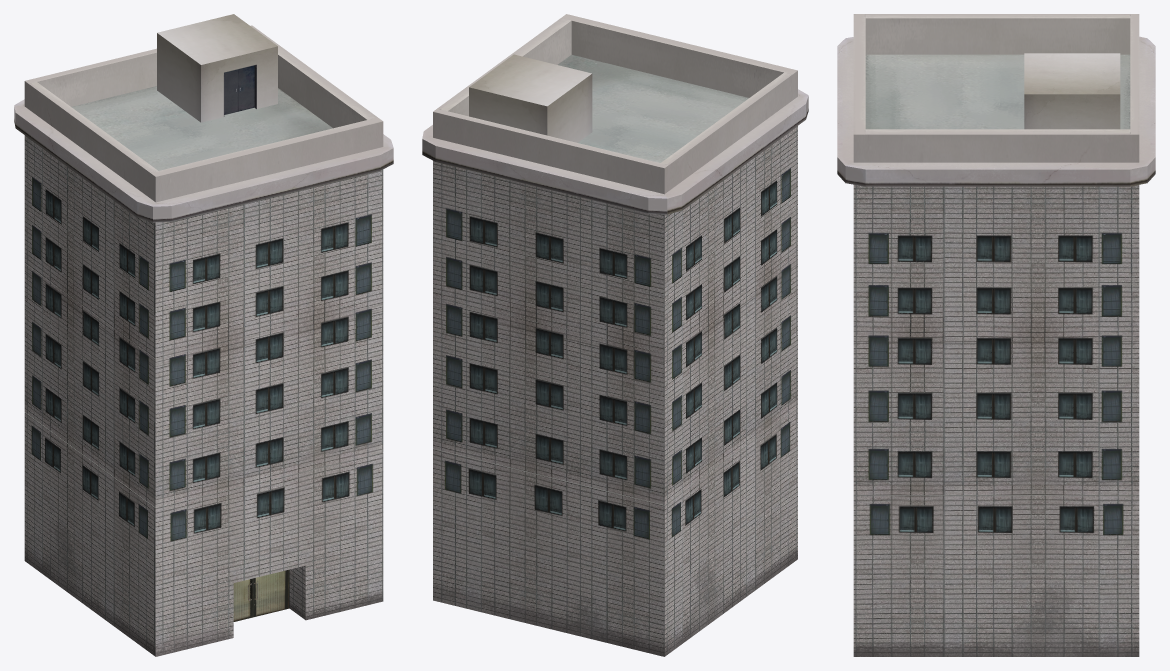
Rendered from bill01_break.fbx.
3 views of the same model, side by side, from view 1: azimuth 30°, elevation 25°; view 2: azimuth 150°, elevation 25°; view 3: azimuth 270°, elevation 25° (orthographic). The views are drawn at different scales.
Parts seen in each view (by area): view 1: shard59, shard44, shard8, shard40, shard5, shard66, shard55, shard72, shard2, shard64, shard73, shard71 (+21 smaller); view 2: shard59, shard40, shard5, shard65, shard64, shard8, shard55, shard62, shard75, shard11, shard79, shard77 (+16 smaller); view 3: shard44, shard59, shard73, shard72, shard62, shard19, shard42, shard70, shard6, shard21, shard10, shard23 (+23 smaller).
Part boxes in pixels (x1,y1,x2,y2): shard59: (14,67,270,358); shard44: (186,303,383,500); shard8: (114,477,304,656); shard40: (24,271,193,507); shard5: (24,412,116,626); shard66: (219,174,367,330); shard55: (79,326,206,456); shard72: (280,171,383,328); shard2: (203,452,383,538); shard64: (127,17,270,113); shard73: (281,59,393,172); shard71: (191,41,282,140); shard59: (566,61,808,353); shard40: (433,309,797,504); shard5: (521,439,757,656); shard65: (433,194,572,331); shard64: (484,60,580,245); shard8: (755,408,797,577); shard55: (720,256,797,365); shard62: (422,74,512,173); shard75: (605,30,760,99); shard11: (433,449,539,525); shard79: (433,151,547,214); shard77: (558,117,638,221); shard44: (853,333,1067,494); shard59: (837,14,1155,111); shard73: (837,111,1040,273); shard72: (853,191,982,332); shard62: (1024,86,1155,200); shard19: (957,549,1139,639); shard42: (1053,333,1139,494); shard70: (980,234,1139,332); shard6: (853,495,977,564); shard21: (964,495,1139,557); shard10: (853,584,960,651); shard23: (863,547,1125,603).
Size of the model in its own units: 892 by 1694 by 891.
